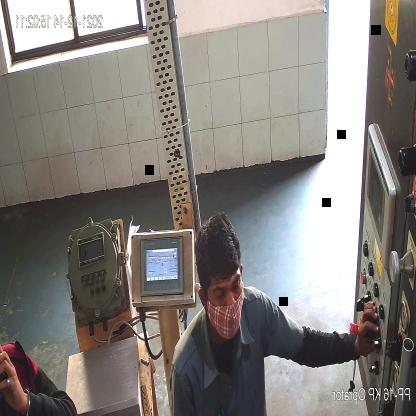no_goggles: (210, 273, 241, 305)
